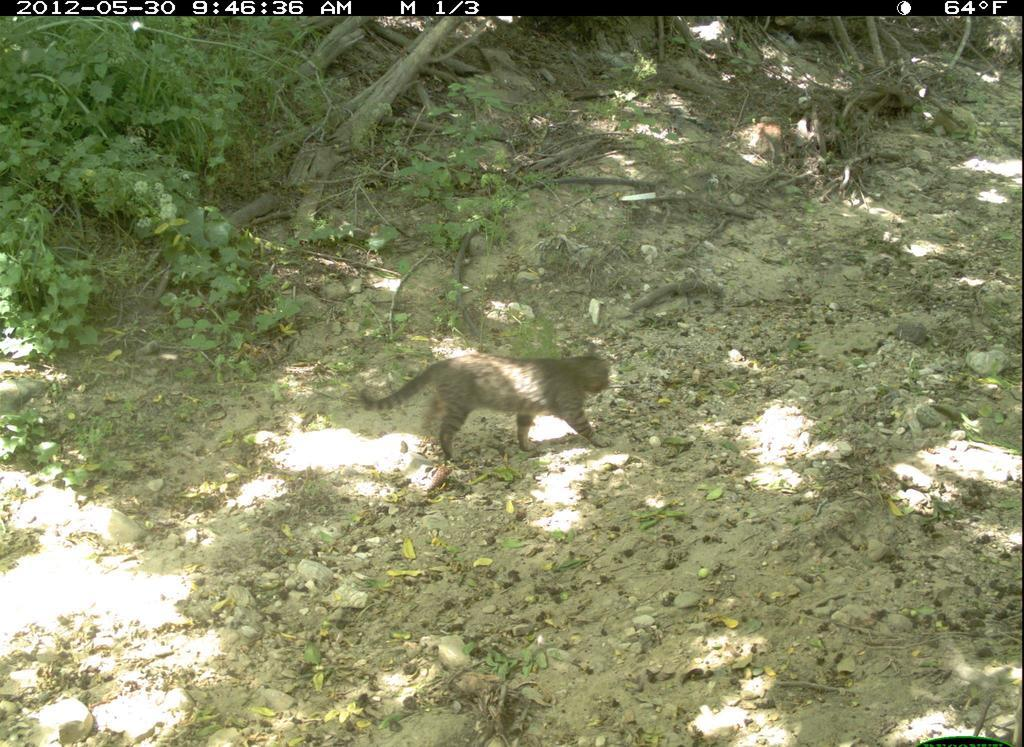cat: (333, 340, 647, 489)
